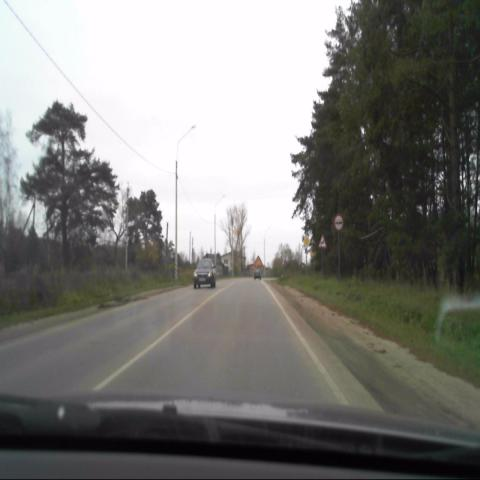1_12: (317, 234, 326, 249)
2_1: (303, 235, 311, 248)
3_20: (333, 213, 343, 231)
